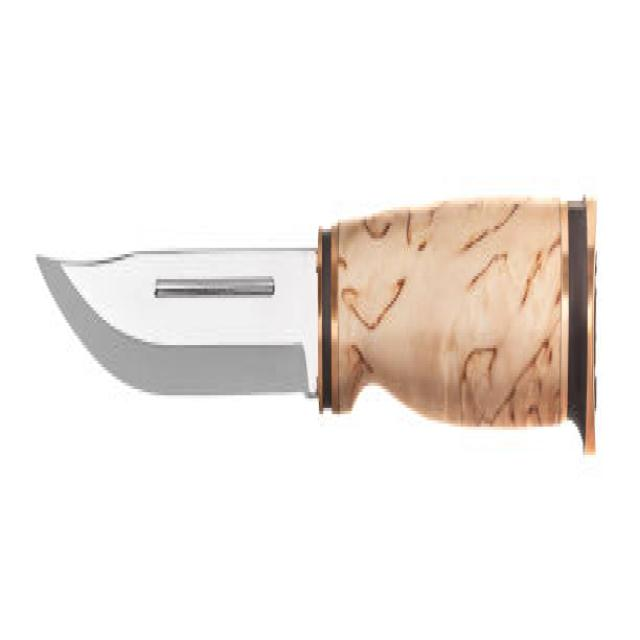knife: (32, 191, 608, 502)
